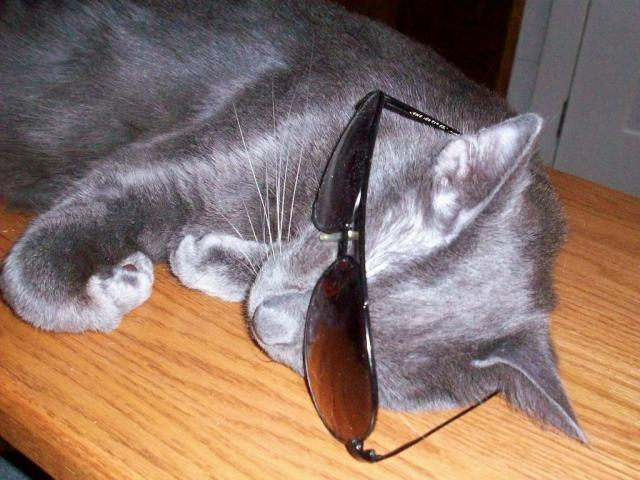Cat: (1, 2, 588, 456)
